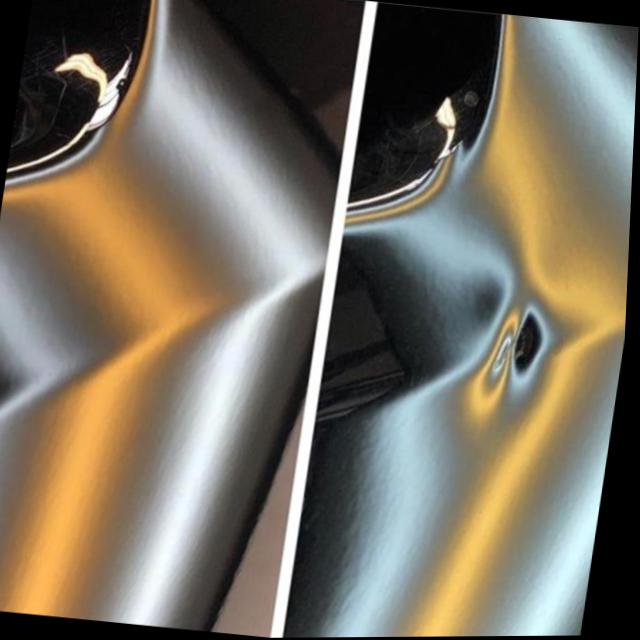Dent: (477, 296, 592, 404)
